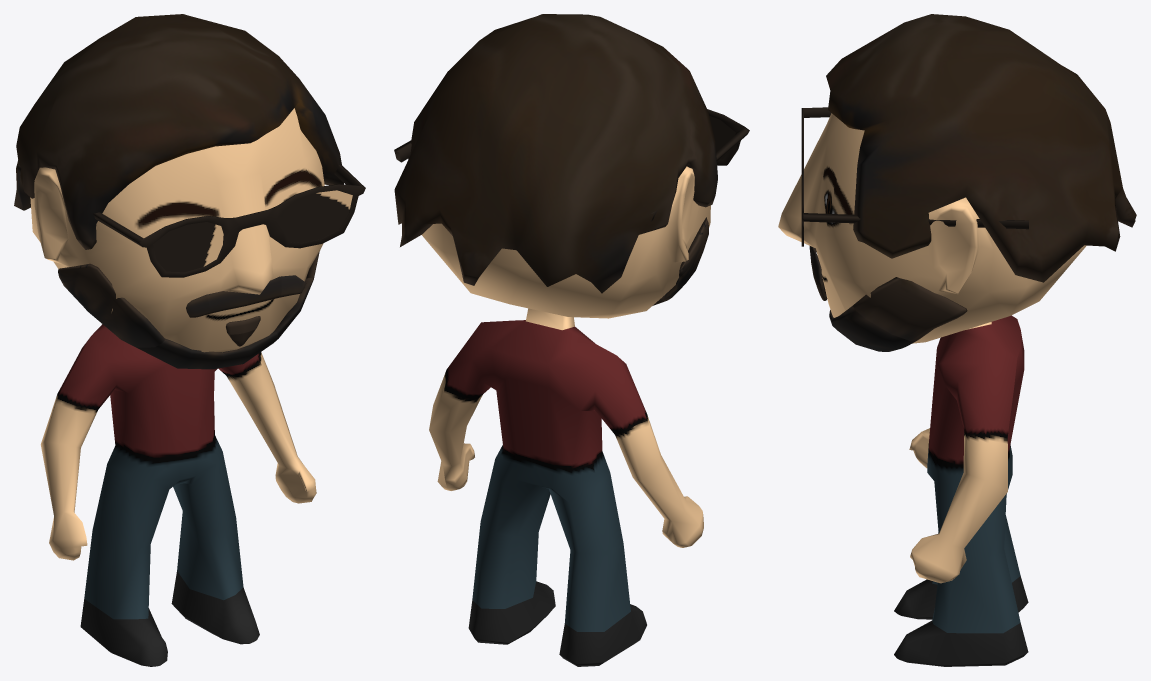
Rendered from Mark_V2.fbx.
3 renders of one model, left to right at view 1: azimuth 30°, elevation 25°; view 2: azimuth 150°, elevation 25°; view 3: azimuth 270°, elevation 25°, orthographic.
Parts seen in each view (by area): view 1: Mark_Hair, Mark_Body, Mark_beard, Mark_Glasses_Lenses; view 2: Mark_Hair, Mark_Body, Mark_beard, Mark_Glasses_Lenses; view 3: Mark_Hair, Mark_Body, Mark_beard.
Boxes of the visible parts, x1,y1,x2,y2 form: Mark_Hair: (14, 14, 365, 352); Mark_Body: (40, 324, 316, 666); Mark_beard: (58, 252, 319, 369); Mark_Glasses_Lenses: (153, 190, 352, 272); Mark_Hair: (394, 14, 749, 318); Mark_Body: (429, 308, 703, 666); Mark_beard: (653, 217, 708, 305); Mark_Glasses_Lenses: (709, 116, 735, 159); Mark_Hair: (778, 14, 1136, 343); Mark_Body: (894, 315, 1028, 666); Mark_beard: (809, 246, 967, 351).
Size of the model in its own units: 461 by 1005 by 541.
